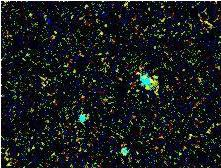star: (134, 67, 164, 97)
